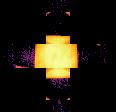earth: (34, 35, 78, 78)
